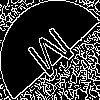M: (25, 25, 83, 87)
